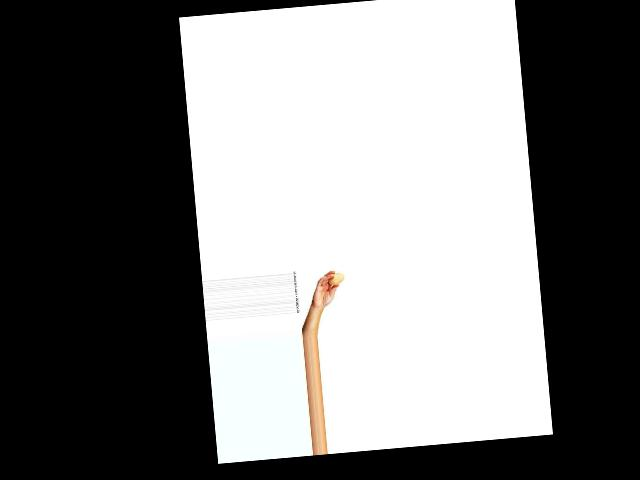egg: (326, 272, 345, 286)
